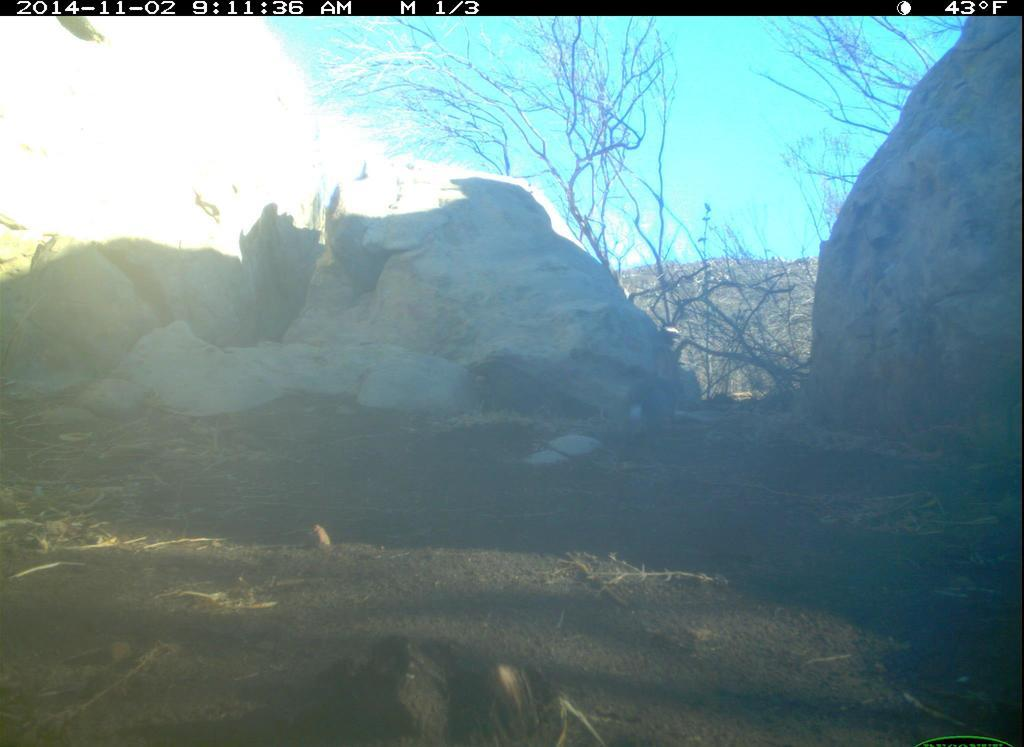rabbit: (617, 339, 690, 447)
